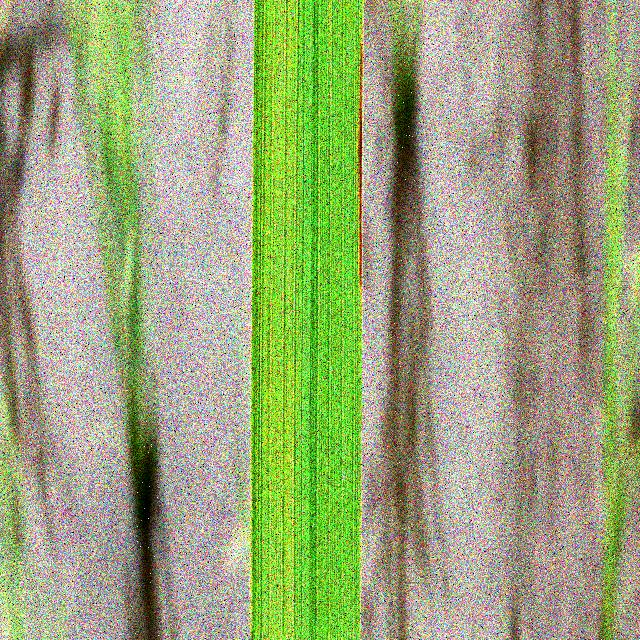NBS: (358, 35, 363, 299)
